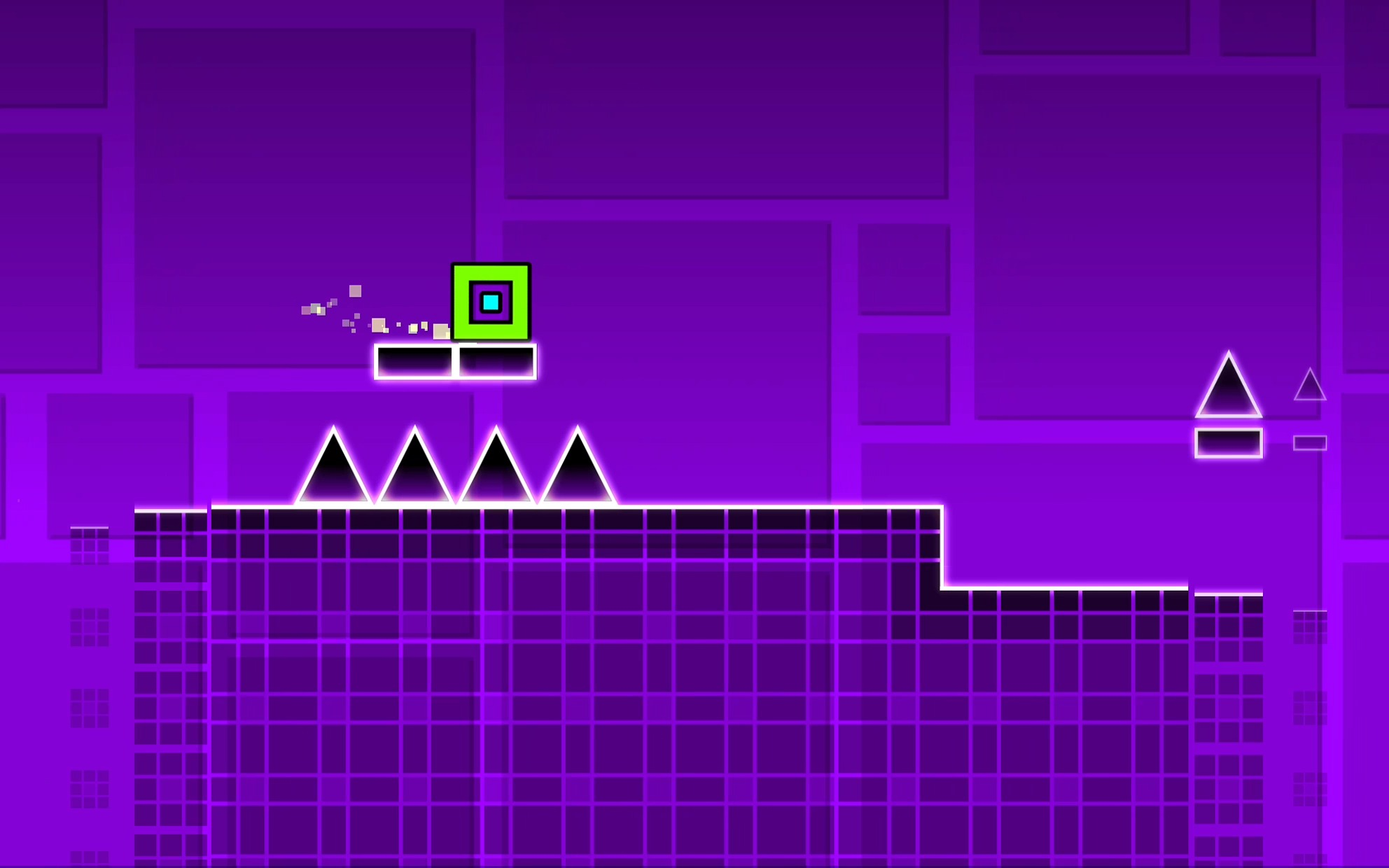Block2: (136, 512, 939, 849), (941, 583, 1333, 868)
Block3: (367, 344, 457, 385), (454, 346, 538, 381), (1194, 427, 1266, 458)
Player: (450, 262, 529, 340)
Spike: (295, 426, 370, 502), (540, 426, 613, 503), (380, 426, 452, 501), (461, 427, 532, 501), (1196, 351, 1262, 419), (1293, 366, 1327, 399)
